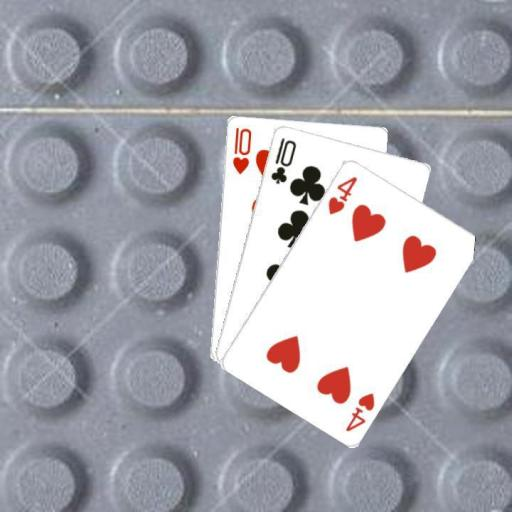card-corner: (268, 134, 298, 186), (324, 172, 359, 216), (342, 389, 376, 433), (229, 124, 252, 175)
